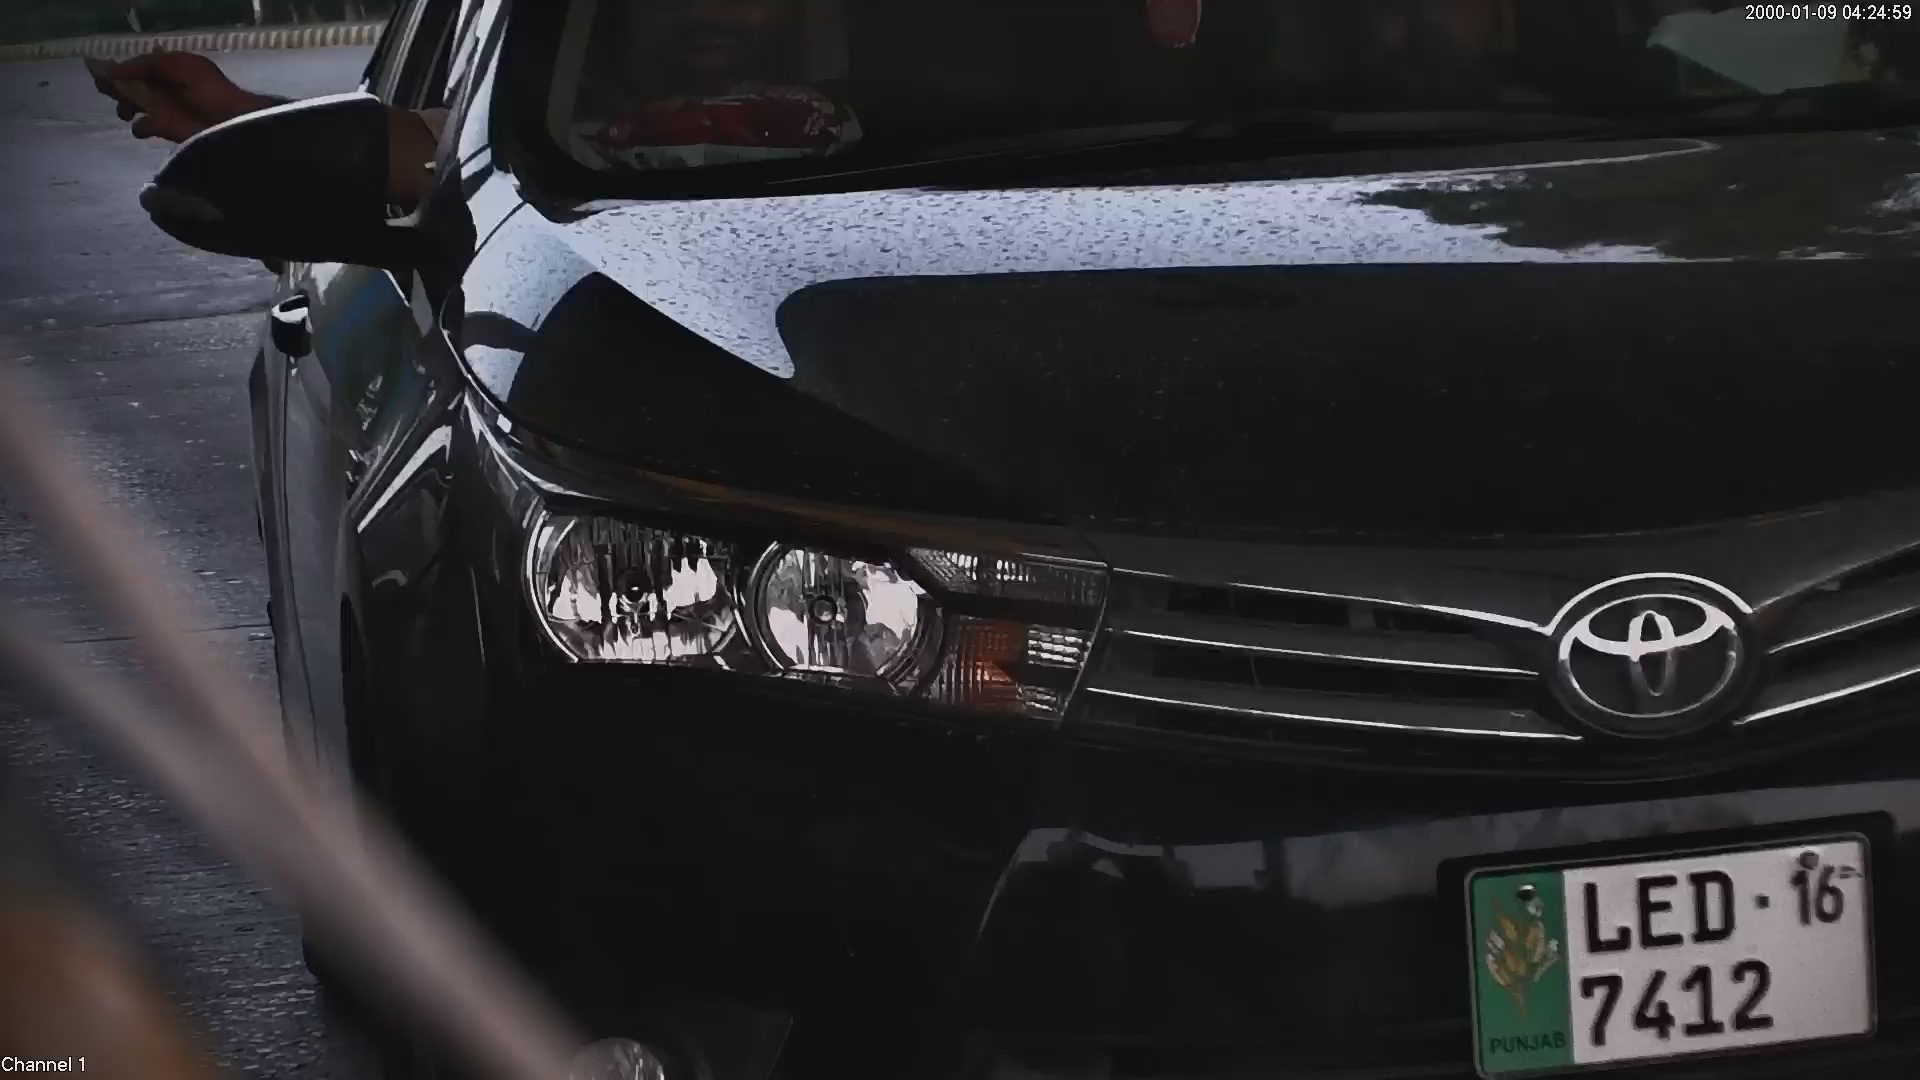Number_Plate: (1450, 814, 1893, 1064)
Undefined: (545, 486, 1078, 718), (1547, 575, 1754, 731)
